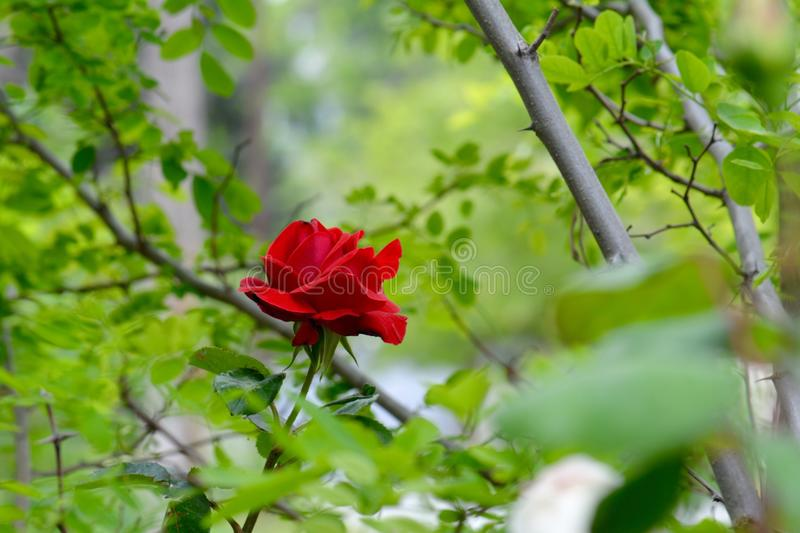RedRose: (243, 217, 416, 357)
